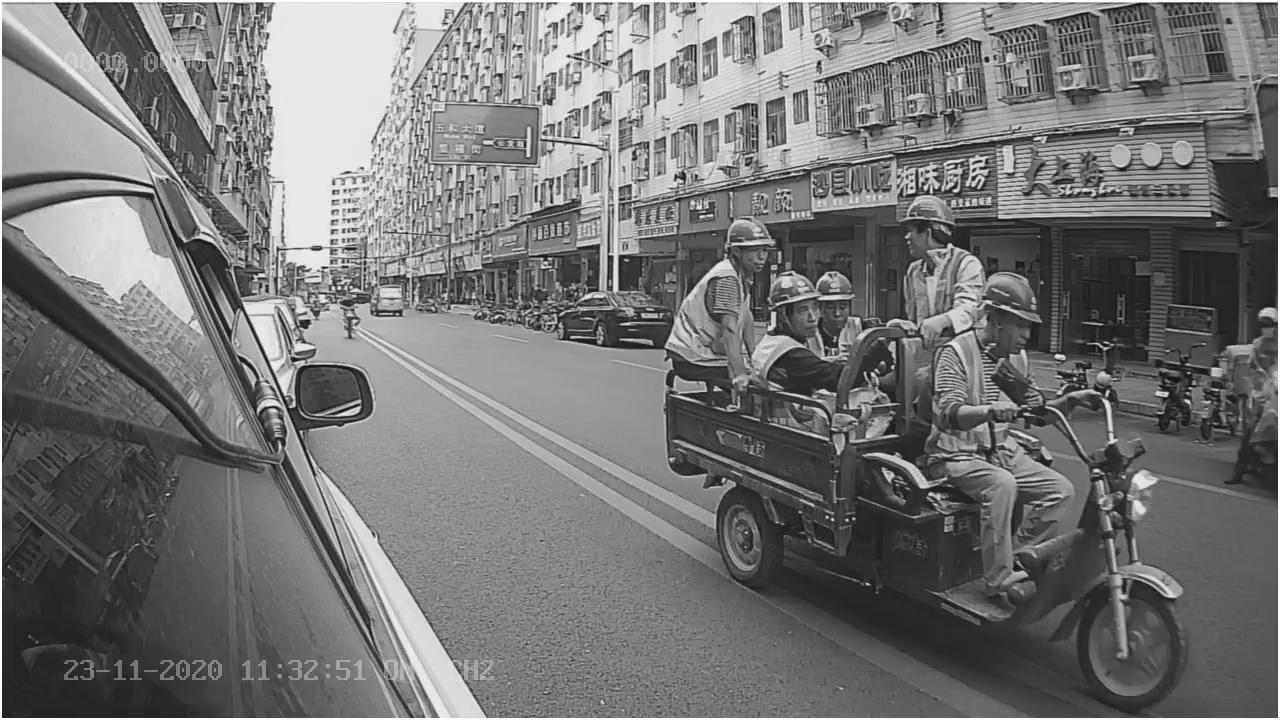person: (931, 271, 1084, 437)
